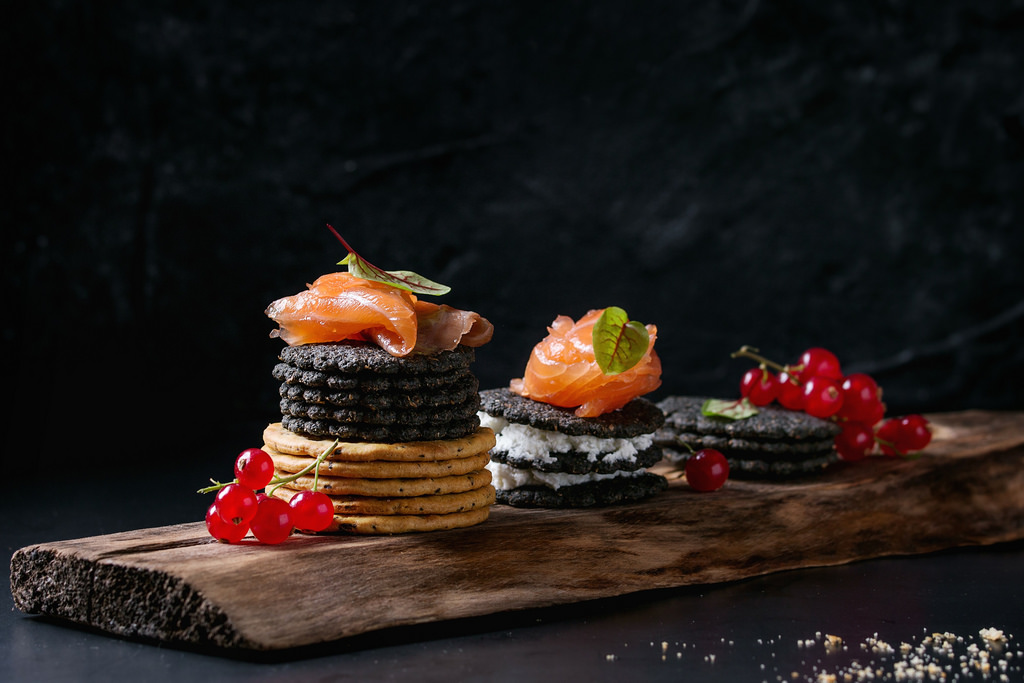slice of bread: (278, 436, 481, 471)
